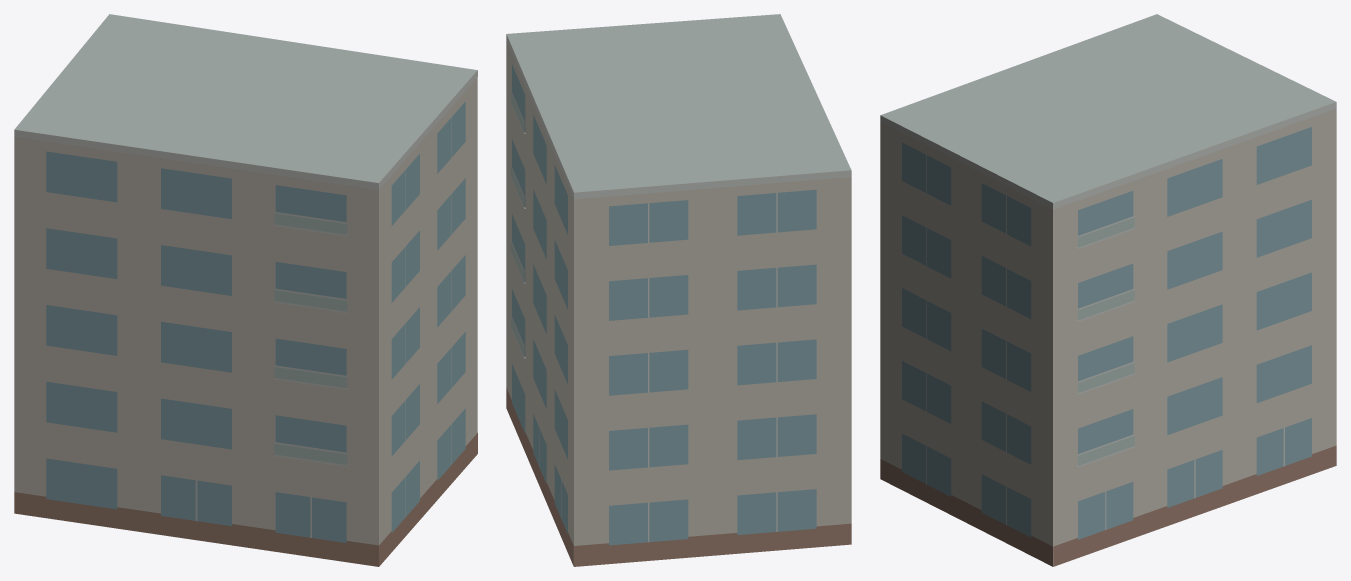
The model's file is survey-upis-32889222.glb.
3 renders of one model, left to right at view 1: azimuth 30°, elevation 25°; view 2: azimuth 150°, elevation 25°; view 3: azimuth 270°, elevation 25°, orthographic. The views are drawn at different scales.
Parts seen in each view (by area): view 1: survey-upis-32889222.tmp; view 2: survey-upis-32889222.tmp; view 3: survey-upis-32889222.tmp.
Boxes of the visible parts, x1,y1,x2,y2 form: survey-upis-32889222.tmp: (14, 14, 477, 566); survey-upis-32889222.tmp: (506, 14, 851, 566); survey-upis-32889222.tmp: (880, 14, 1336, 566).
Size of the model in its own units: 15.17 by 13.6 by 15.47.
